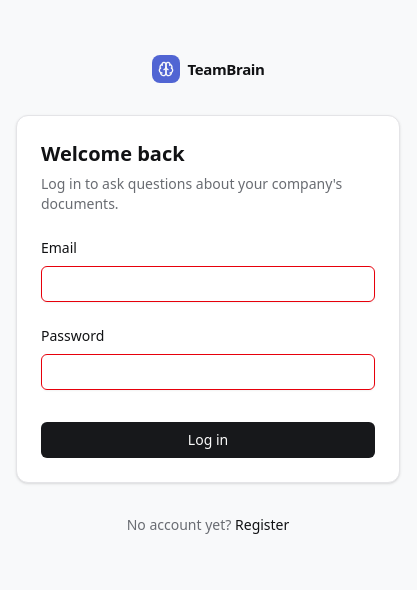
Test: LoginView › shows a general message when throttled
The image size is (417, 590).
In the field labelled "Email": (208, 284) top-left (41, 266), bottom-right (375, 302), type "erika@example.com"
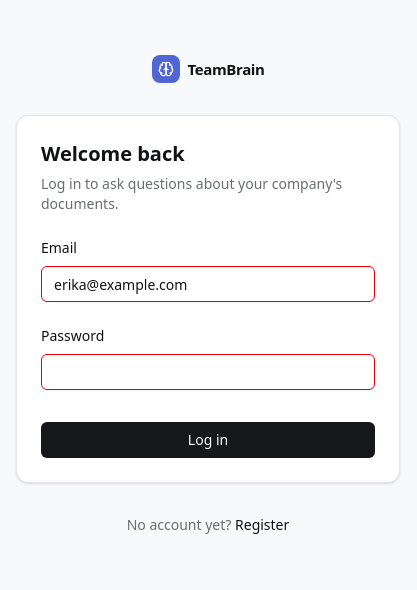
In the password field labelled "Password": (208, 372) top-left (41, 354), bottom-right (375, 390), type "secret-password"
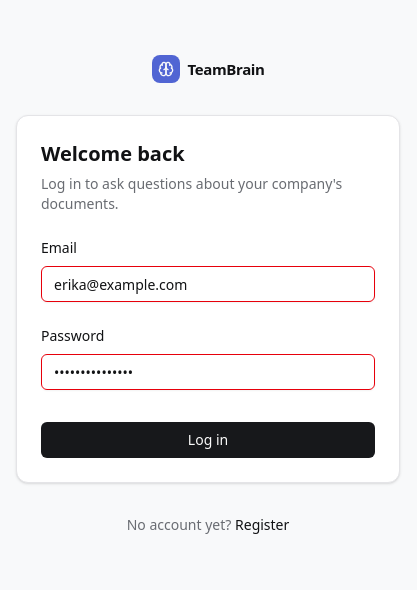
Submit the form, box top-left (41, 238), bottom-right (375, 458)
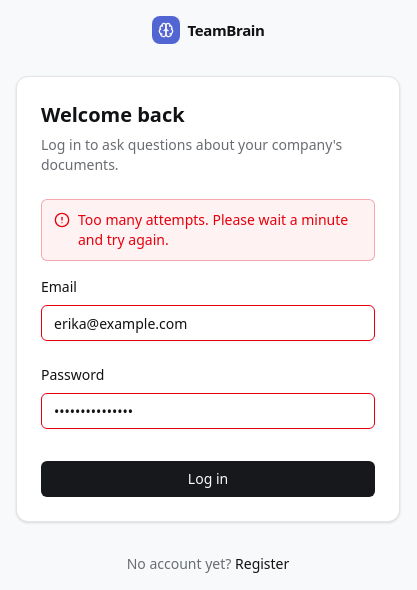
Check: the message "Too many attempts. Please wait a minute and try again." is shown, box top-left (41, 199), bottom-right (375, 261)
